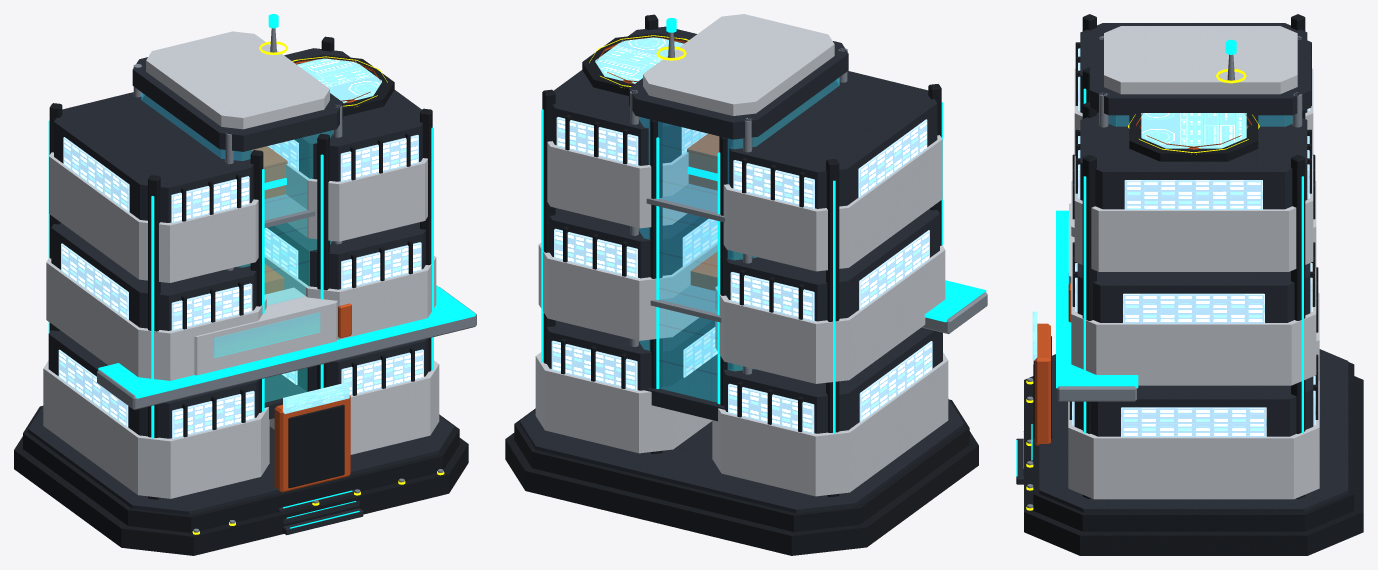
The model's file is bldg_02_r1_03.glb.
3 views of the same model, side by side, from view 1: azimuth 30°, elevation 25°; view 2: azimuth 150°, elevation 25°; view 3: azimuth 270°, elevation 25° (orthographic). The views are drawn at different scales.
Parts seen in each view (by area): view 1: Bldg02_C03_aero_white, Bldg02_C03_carbon_slate, Bldg02_C03_gunmetal, Bldg02_C03_window_lit, Bldg02_C03_glass_cyan, Bldg02_C03_led_cyan, Bldg02_C03_steel_machined, Bldg02_C03_accent_orange, Bldg02_C03_marquee; view 2: Bldg02_C03_aero_white, Bldg02_C03_carbon_slate, Bldg02_C03_gunmetal, Bldg02_C03_window_lit, Bldg02_C03_glass_cyan, Bldg02_C03_led_cyan, Bldg02_C03_steel_machined, Bldg02_C03_marquee, Bldg02_C03_accent_orange; view 3: Bldg02_C03_aero_white, Bldg02_C03_carbon_slate, Bldg02_C03_gunmetal, Bldg02_C03_window_lit, Bldg02_C03_led_cyan, Bldg02_C03_marquee, Bldg02_C03_accent_orange, Bldg02_C03_steel_machined, Bldg02_C03_glass_cyan, Bldg02_C03_led_amber.
Part boxes in pixels (<box>): Bldg02_C03_aero_white: <box>43,31,439,498</box>; Bldg02_C03_carbon_slate: <box>28,48,454,535</box>; Bldg02_C03_gunmetal: <box>14,36,468,555</box>; Bldg02_C03_window_lit: <box>58,134,423,438</box>; Bldg02_C03_glass_cyan: <box>141,92,333,402</box>; Bldg02_C03_led_cyan: <box>48,14,475,528</box>; Bldg02_C03_steel_machined: <box>97,28,476,532</box>; Bldg02_C03_accent_orange: <box>252,58,380,492</box>; Bldg02_C03_marquee: <box>283,58,381,413</box>; Bldg02_C03_aero_white: <box>535,14,948,496</box>; Bldg02_C03_carbon_slate: <box>520,26,964,513</box>; Bldg02_C03_gunmetal: <box>505,14,978,555</box>; Bldg02_C03_window_lit: <box>551,117,932,433</box>; Bldg02_C03_glass_cyan: <box>639,77,839,402</box>; Bldg02_C03_led_cyan: <box>541,18,986,433</box>; Bldg02_C03_steel_machined: <box>630,32,987,374</box>; Bldg02_C03_marquee: <box>595,37,683,83</box>; Bldg02_C03_accent_orange: <box>597,36,718,290</box>; Bldg02_C03_aero_white: <box>1068,26,1319,499</box>; Bldg02_C03_carbon_slate: <box>1016,23,1348,512</box>; Bldg02_C03_gunmetal: <box>1024,14,1363,555</box>; Bldg02_C03_window_lit: <box>1072,42,1315,437</box>; Bldg02_C03_led_cyan: <box>1016,39,1303,476</box>; Bldg02_C03_marquee: <box>1032,113,1246,360</box>; Bldg02_C03_accent_orange: <box>1034,112,1251,445</box>; Bldg02_C03_steel_machined: <box>1027,36,1302,508</box>; Bldg02_C03_glass_cyan: <box>1068,115,1292,293</box>; Bldg02_C03_led_amber: <box>1026,69,1259,510</box>.
Bounding box in the file's own units: 12.5 × 14.62 × 10.23.
10 materials, 10 textured.
